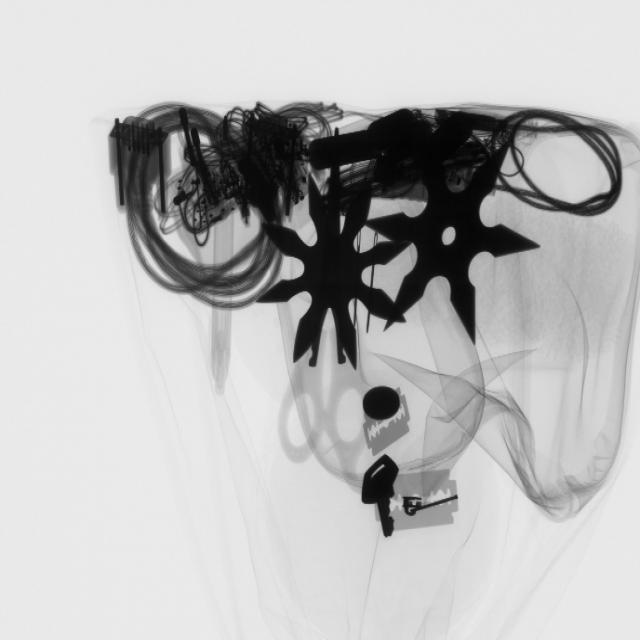BLADE: (360, 402, 413, 461)
GUN: (356, 468, 468, 550)
SHURIKEN: (370, 140, 535, 346), (260, 171, 401, 372)
